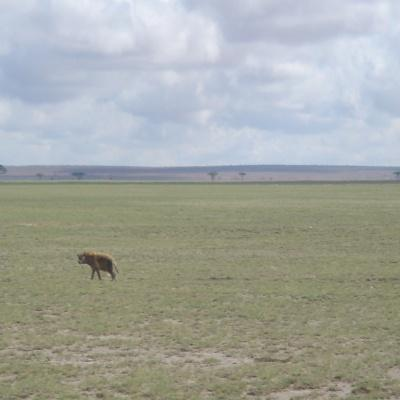hyenas: (74, 236, 125, 285)
